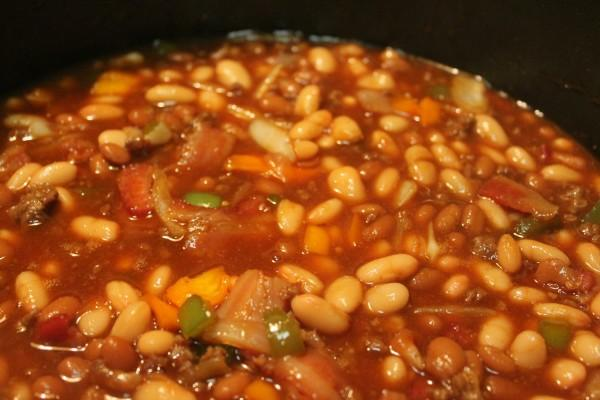RajmaCurry: (0, 34, 600, 400)
